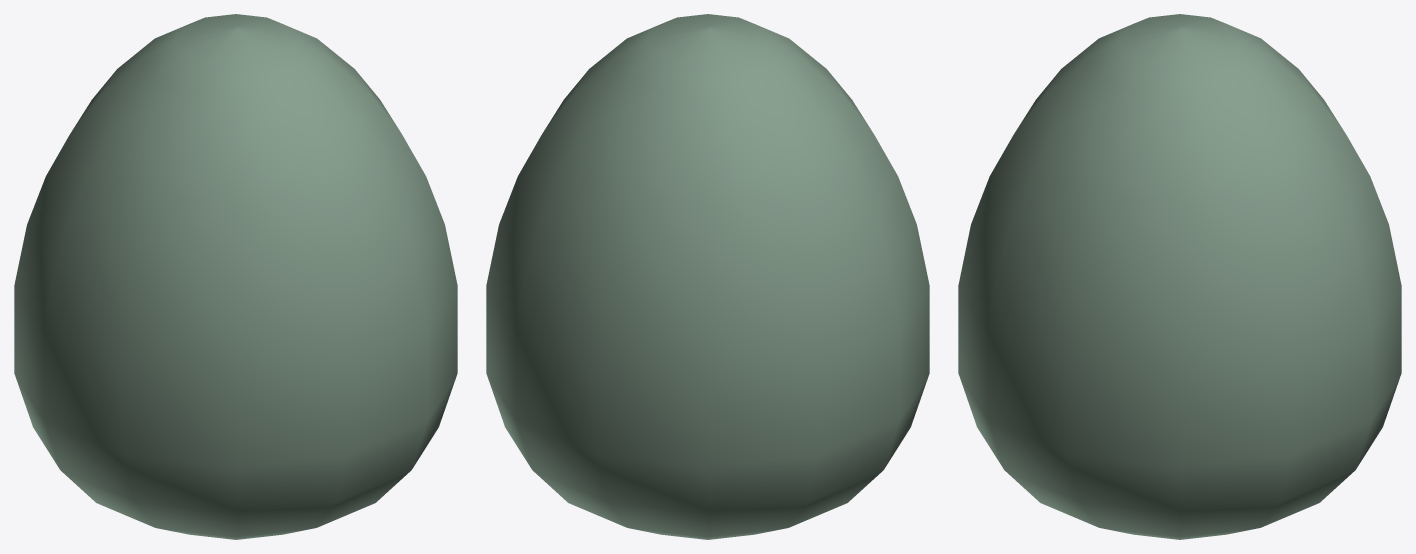
File: Parlour_Palm_Analytical_0.obj
The picture shows the model from 3 angles, left to right: view 1: azimuth 30°, elevation 25°; view 2: azimuth 150°, elevation 25°; view 3: azimuth 270°, elevation 25°; orthographic projection.
Parts seen in each view (by area): view 1: AnalyticalCrown; view 2: AnalyticalCrown; view 3: AnalyticalCrown.
Boxes of the visible parts, box(x1,y1,x2,y2) form: AnalyticalCrown: box(14, 14, 457, 539); AnalyticalCrown: box(486, 14, 929, 539); AnalyticalCrown: box(958, 14, 1401, 539).
Bounding box in the file's own units: 1.66 × 2 × 1.66.
